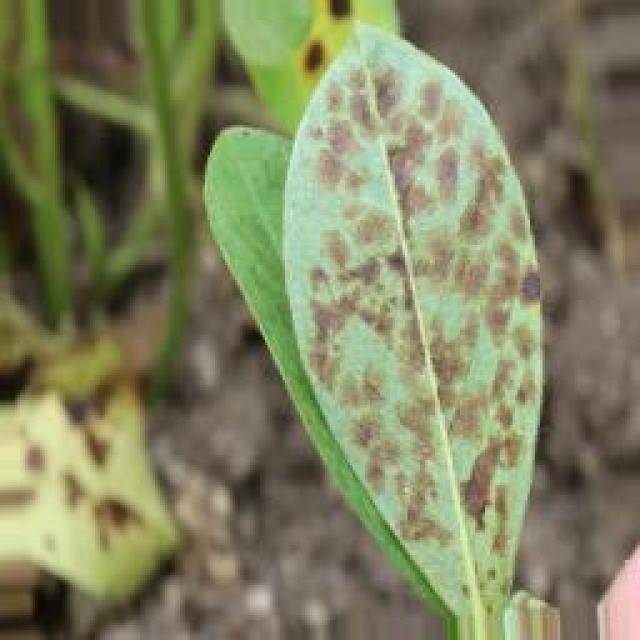Whitefly: (191, 0, 569, 615)
